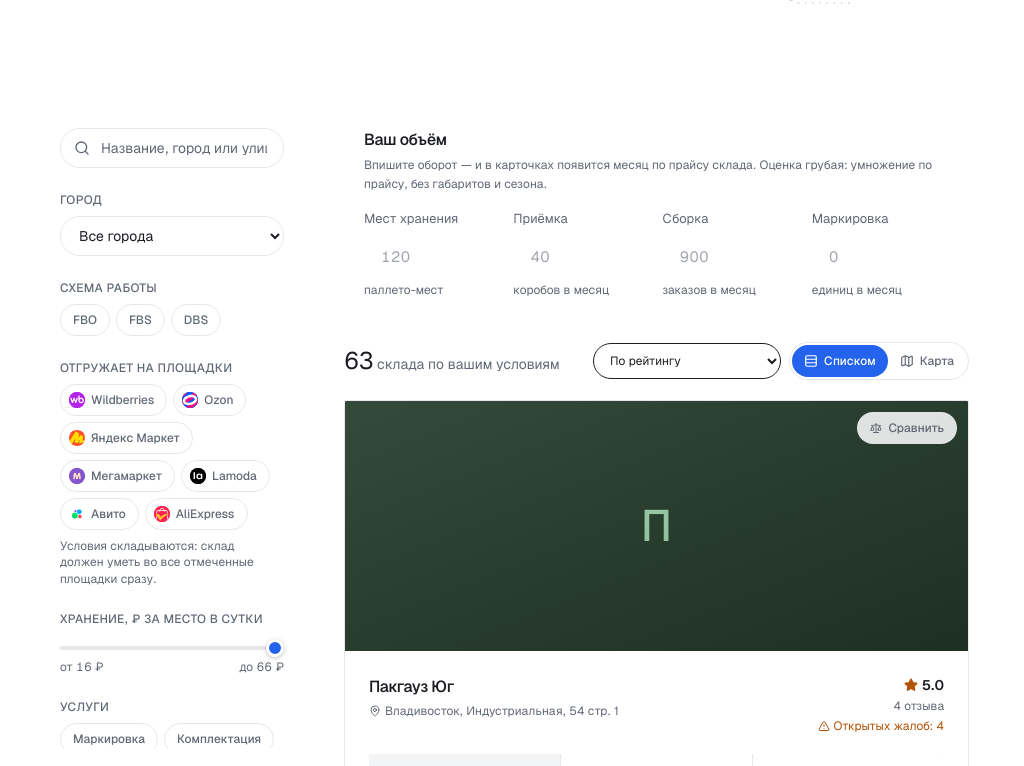
Test case: MarketScreen — сравнение складов › одного отмеченного склада для сравнения мало
This screenshot has width=1024, height=766.
(page scrolled)
Click the button with aria-label "Сравнить: " at point(907, 428), box [857,412,957,444]
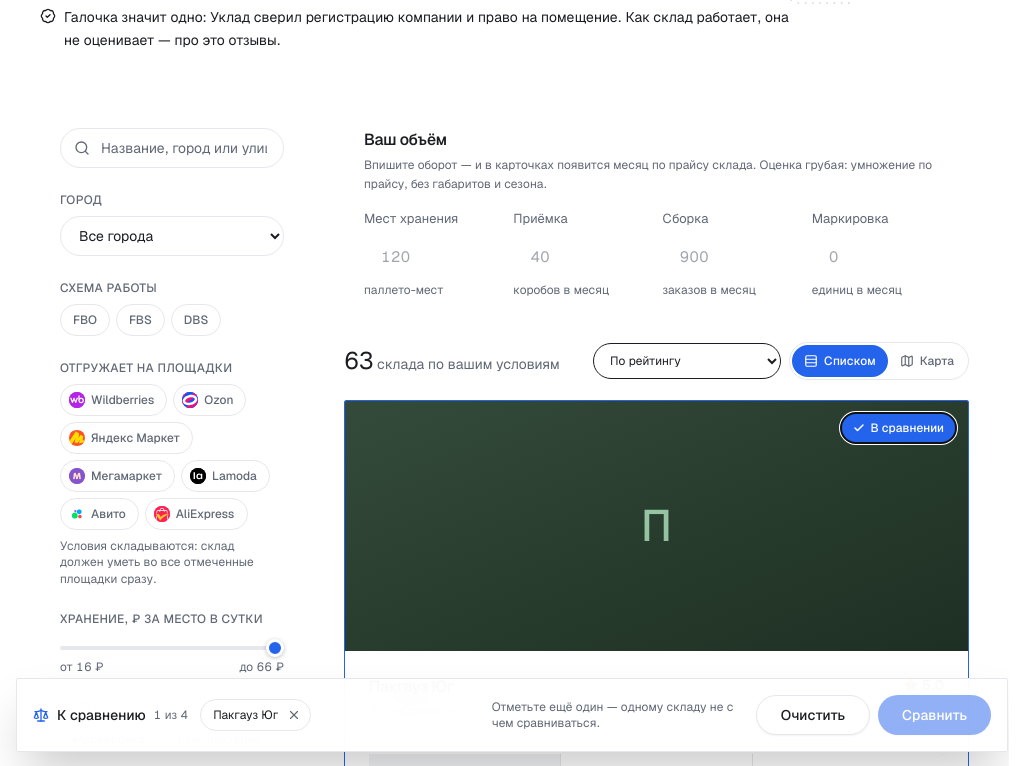
Expected: the button "Сравнить" is disabled, [878,695,991,735]
Expected: the button "Очистить" is shown, [756,695,870,735]
